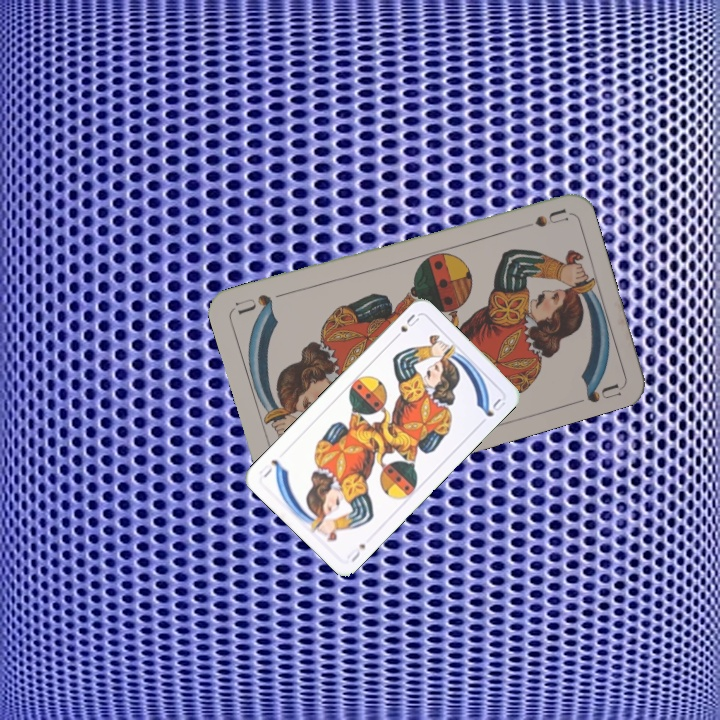SU: (510, 204, 569, 232), (389, 310, 422, 343), (343, 539, 368, 565)
